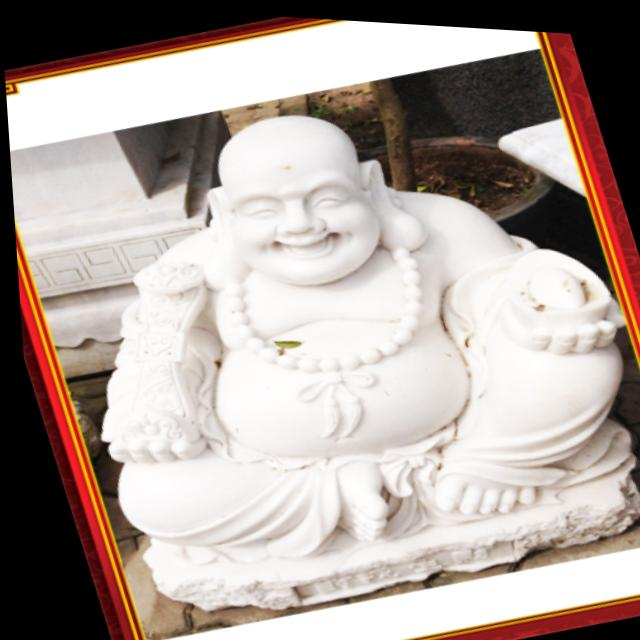Smiling Buddha: (24, 28, 640, 627)
